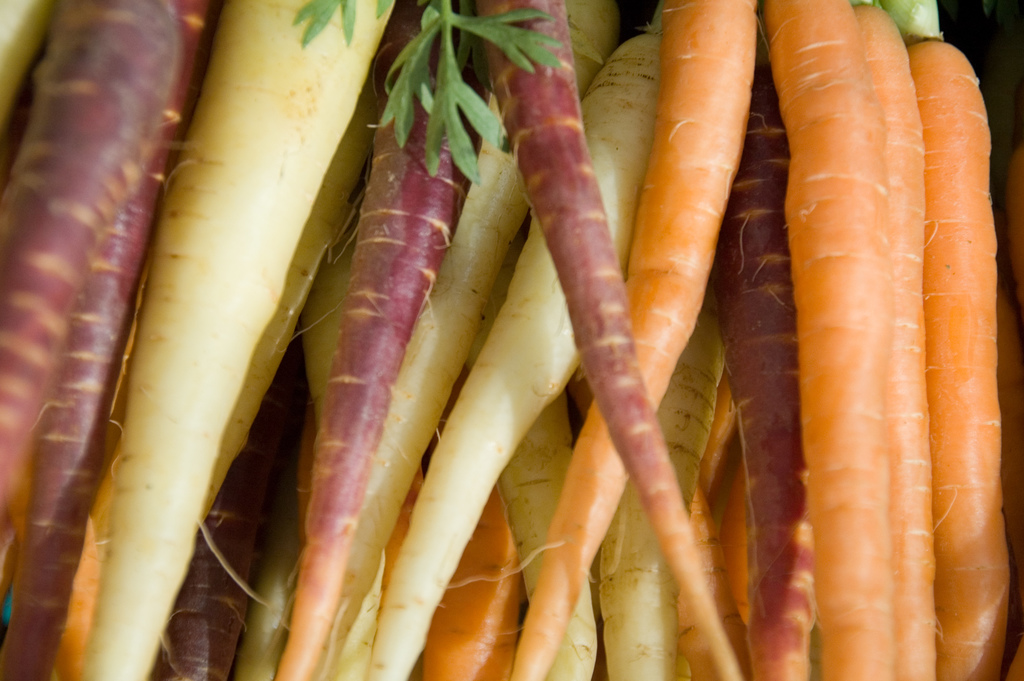Carrot: (422, 0, 1010, 680), (0, 0, 229, 681), (265, 7, 470, 681)
